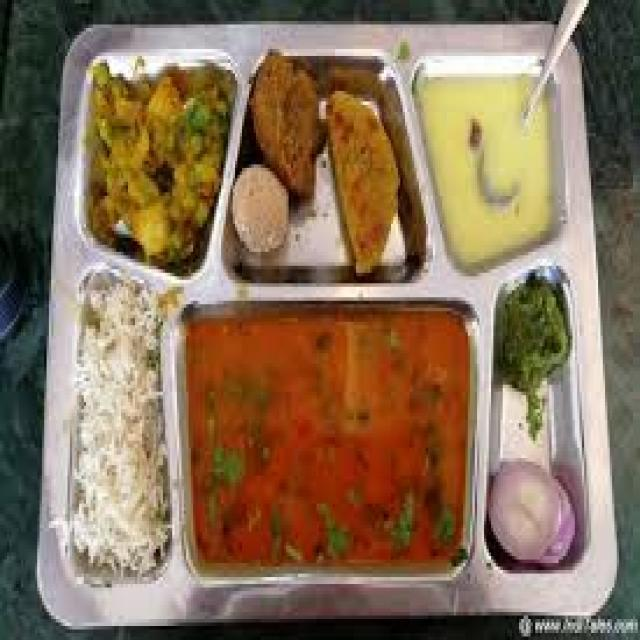dal: (432, 79, 557, 269)
papad: (67, 289, 170, 567)
rice: (67, 287, 169, 579)
roti: (320, 95, 412, 261)
sweet: (231, 159, 295, 254)
veg-fry: (157, 294, 498, 570), (81, 58, 231, 273)
